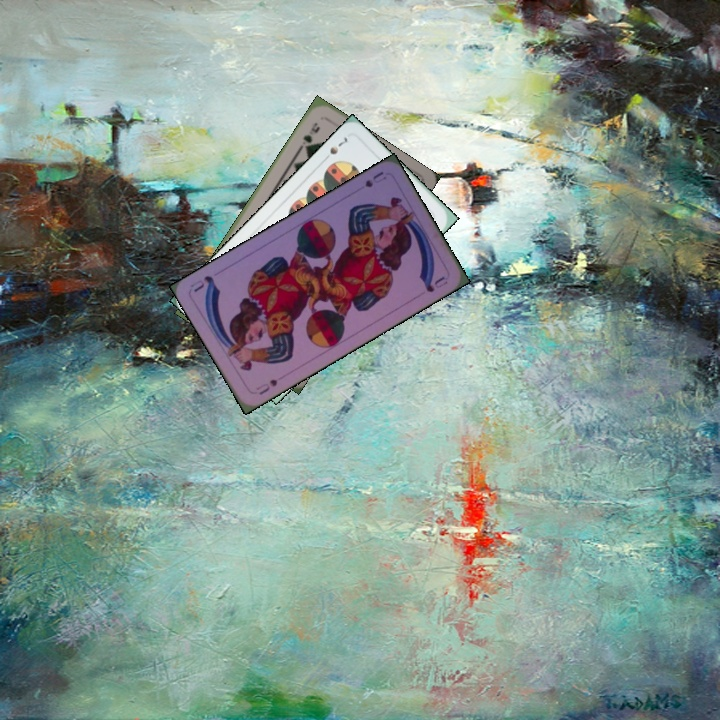G9: (296, 118, 323, 153)
S7: (319, 132, 350, 164)
SU: (361, 167, 389, 190), (252, 375, 280, 398)
